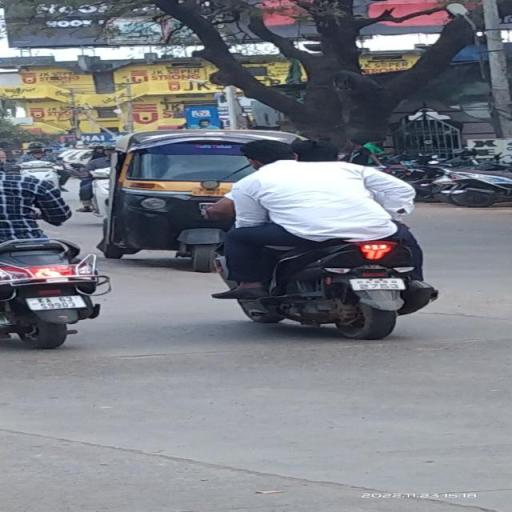bike: (204, 129, 442, 339)
numberplate: (350, 278, 407, 292)
withouthelmet: (293, 140, 337, 162), (246, 140, 282, 163)
